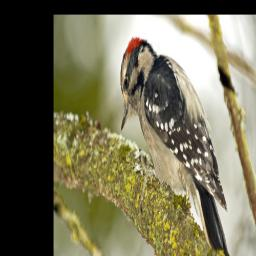Woodpecker: (120, 33, 239, 256)
